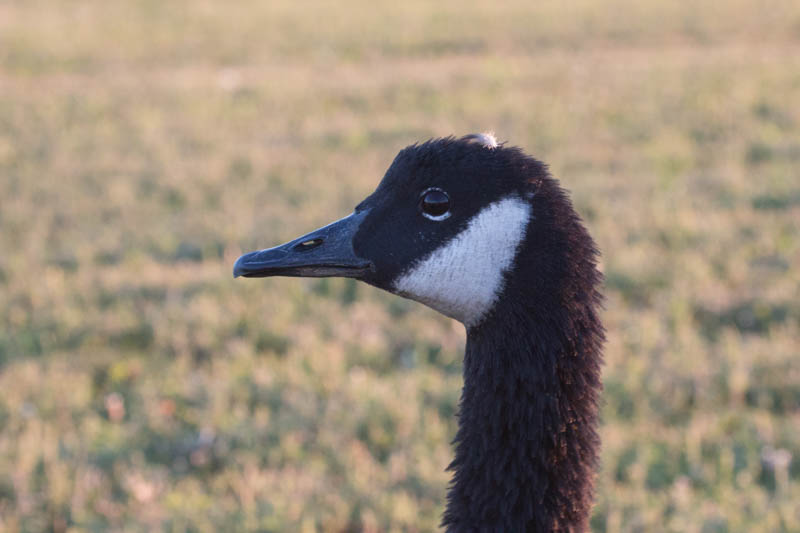goose-head: (232, 137, 602, 339)
